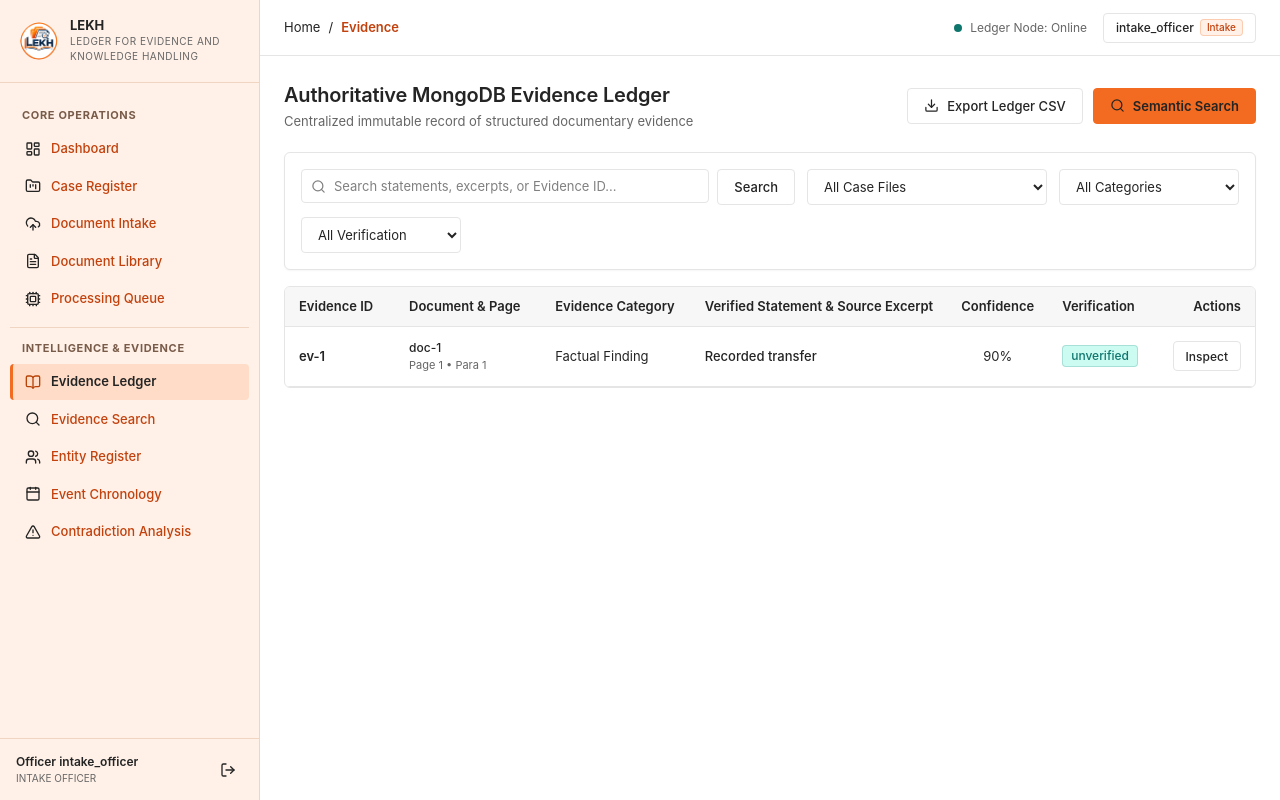
Dynamic Role-Based Sidebar & Route Guards › hides unauthorized page-level action buttons across operational pages
Later steps or results of the test are not shown.
Expected: the text "ev-1" is shown, [299,348,325,364]
Click the button "Inspect": click(1207, 356) [1173,341,1241,371]
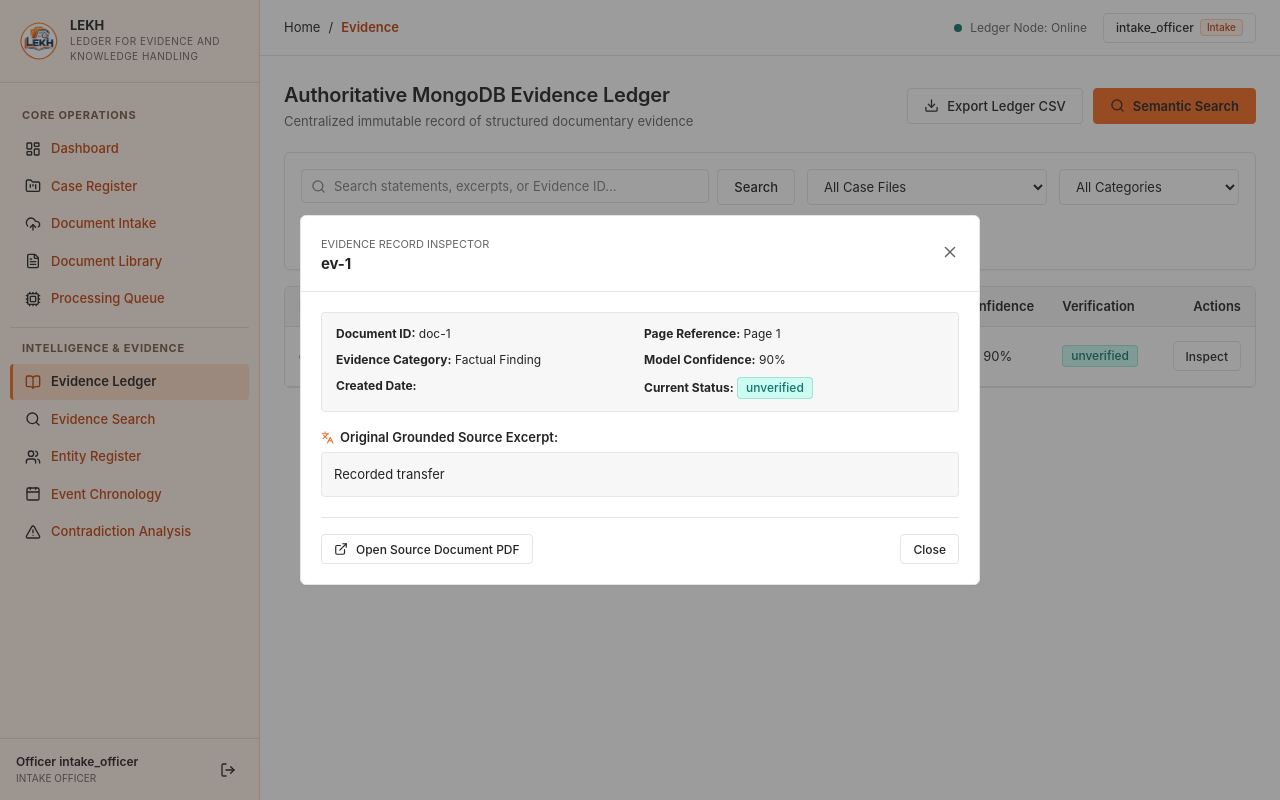
Expected: the text "Original Grounded Source Excerpt:" is shown, [321,429,558,445]
